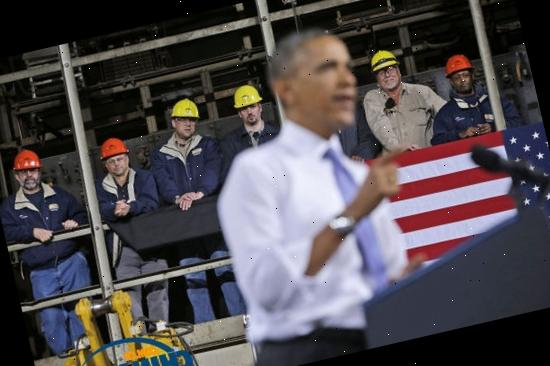helmet: (7, 146, 44, 176), (166, 95, 202, 125), (226, 82, 264, 110), (440, 50, 477, 78), (96, 134, 130, 161), (368, 47, 400, 74)
wear: (0, 184, 82, 268), (366, 78, 444, 158), (148, 132, 230, 205), (427, 86, 520, 148), (92, 166, 158, 220)
